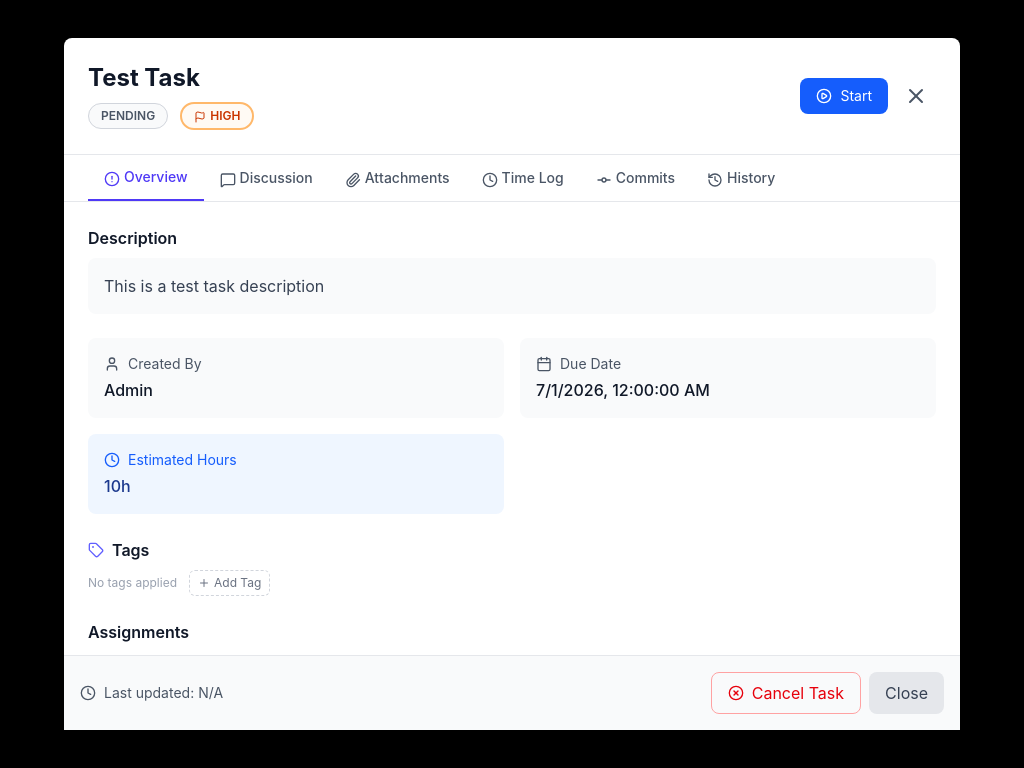
TaskDetailsModal extended coverage › handles GitHub integration API errors gracefully
The width and height of the screenshot is (1024, 768).
Click the button "Commits" at {"x": 635, "y": 178}, box [580,155,691,201]
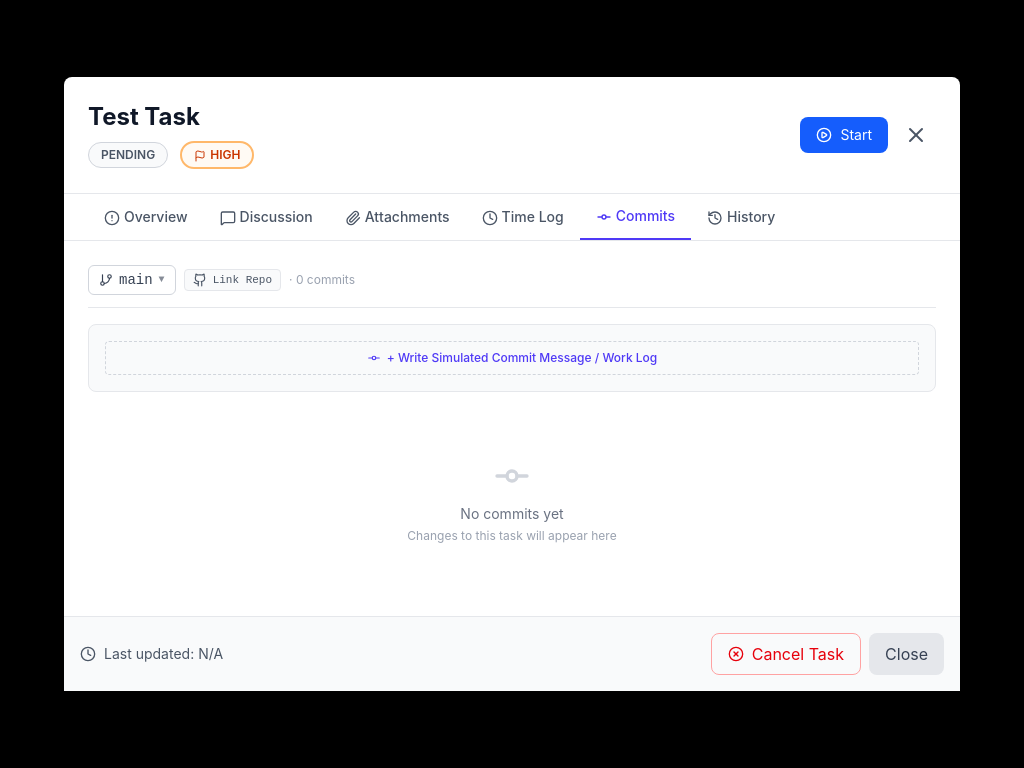
Check: the text "Link Repo" is shown, box [213,272,272,288]
